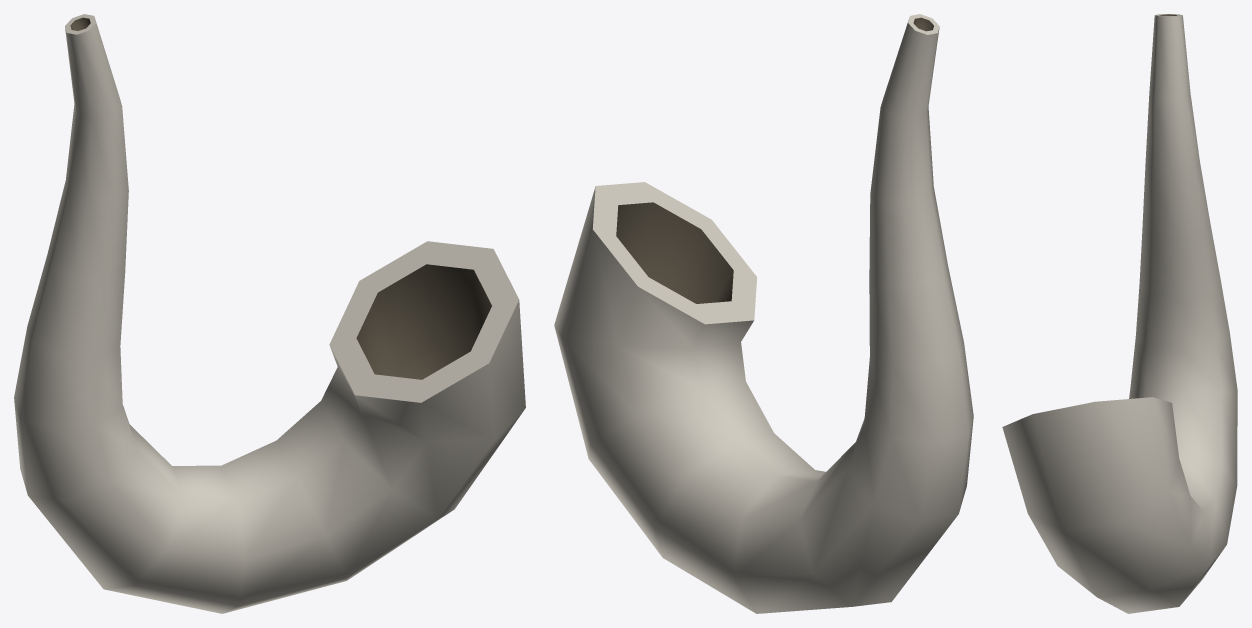
The model's file is cuerno.gltf.
3 views of the same model, side by side, from view 1: azimuth 30°, elevation 25°; view 2: azimuth 150°, elevation 25°; view 3: azimuth 270°, elevation 25° (orthographic). The views are drawn at different scales.
Visible parts, largest first — view 1: Cuerno_Recepcion; view 2: Cuerno_Recepcion; view 3: Cuerno_Recepcion.
Boxes of the visible parts, <box> form: Cuerno_Recepcion: <box>14,14,525,613</box>; Cuerno_Recepcion: <box>554,14,973,613</box>; Cuerno_Recepcion: <box>1002,14,1237,613</box>.
Size of the model in its own units: 0.3114 by 0.4148 by 0.1701.
1 material, 1 textured.
